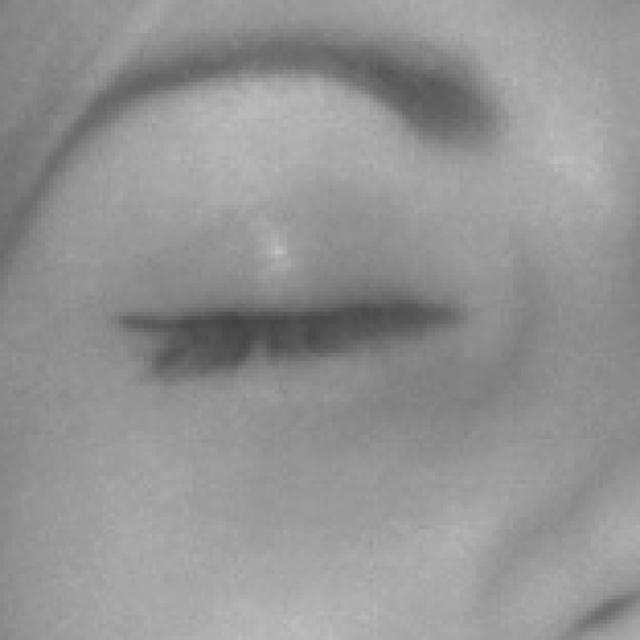Eyeclosed: (122, 186, 468, 497)
